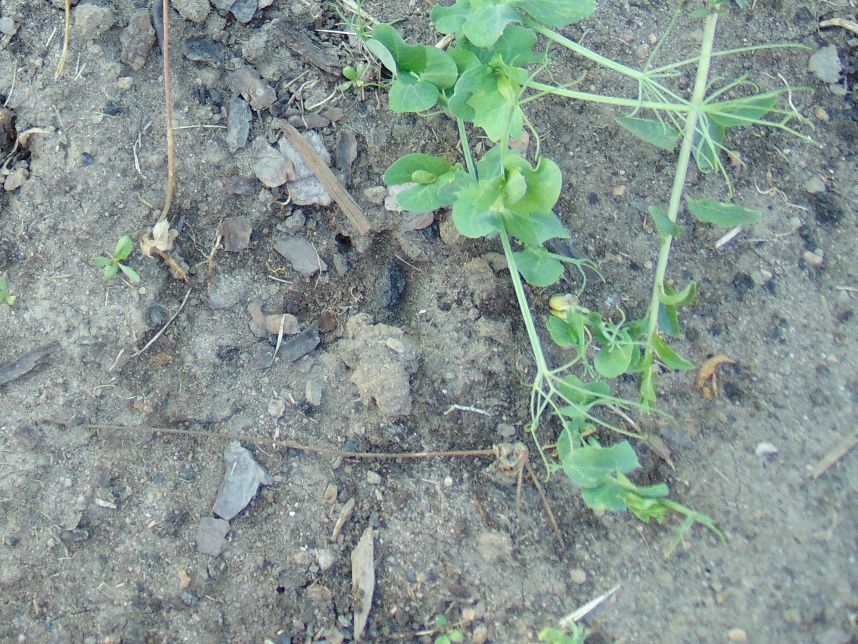crop: (347, 1, 617, 298), (374, 22, 752, 143), (551, 381, 726, 548), (519, 291, 639, 475)
weed: (612, 95, 774, 171), (636, 272, 697, 405), (644, 194, 766, 243), (93, 236, 142, 283)
